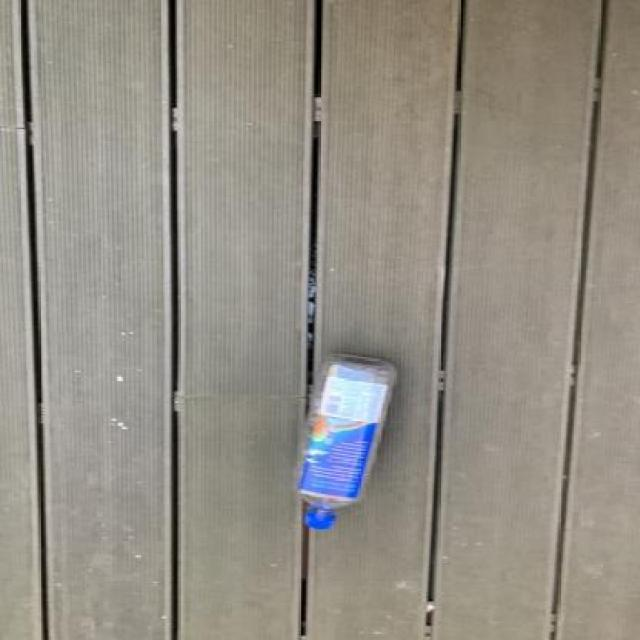trash: (288, 357, 403, 534)
